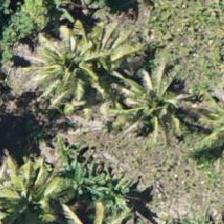coconut_tree: (123, 62, 213, 152), (92, 43, 182, 133), (0, 149, 73, 223)
